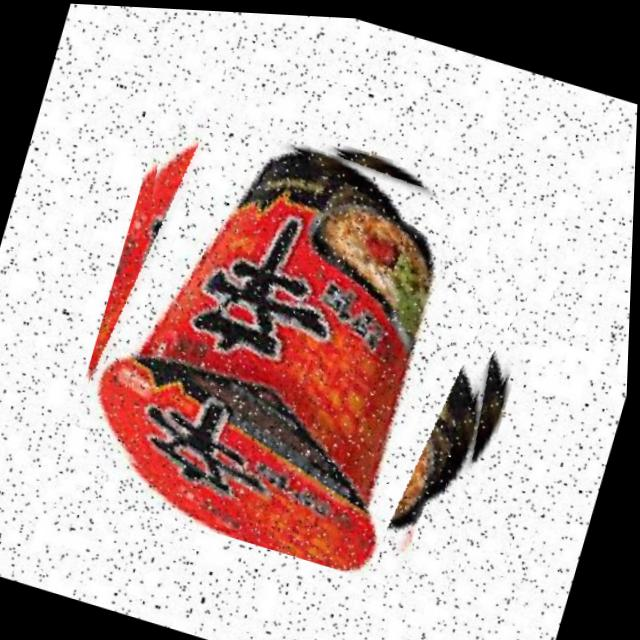Miscellaneous: (56, 84, 566, 601)
